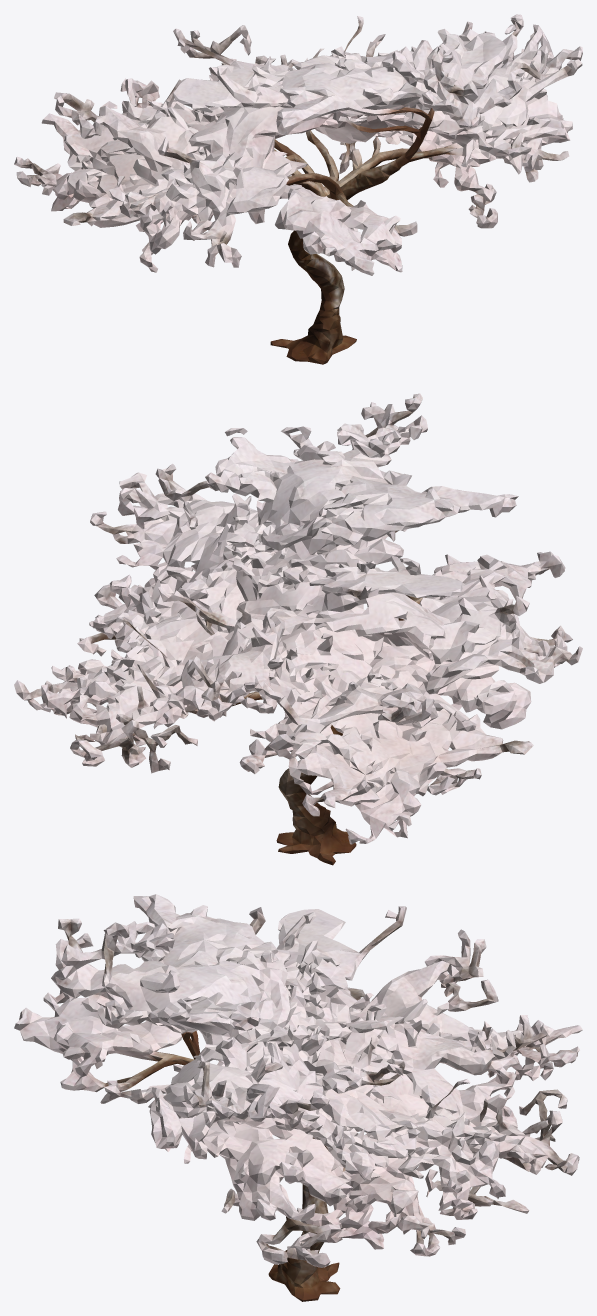
3 renders of one model, top to bottom at view 1: azimuth 30°, elevation 25°; view 2: azimuth 150°, elevation 25°; view 3: azimuth 270°, elevation 25°, orthographic. The views are drawn at different scales.
Visible parts, largest first — view 1: model; view 2: model; view 3: model.
Part boxes in pixels (box(x1,y1,x2,y2)): model: box(14, 14, 582, 364); model: box(14, 393, 582, 865); model: box(14, 894, 582, 1301).
Bounding box in the file's own units: 1.89 × 1.39 × 1.9.
1 material, 1 textured.
